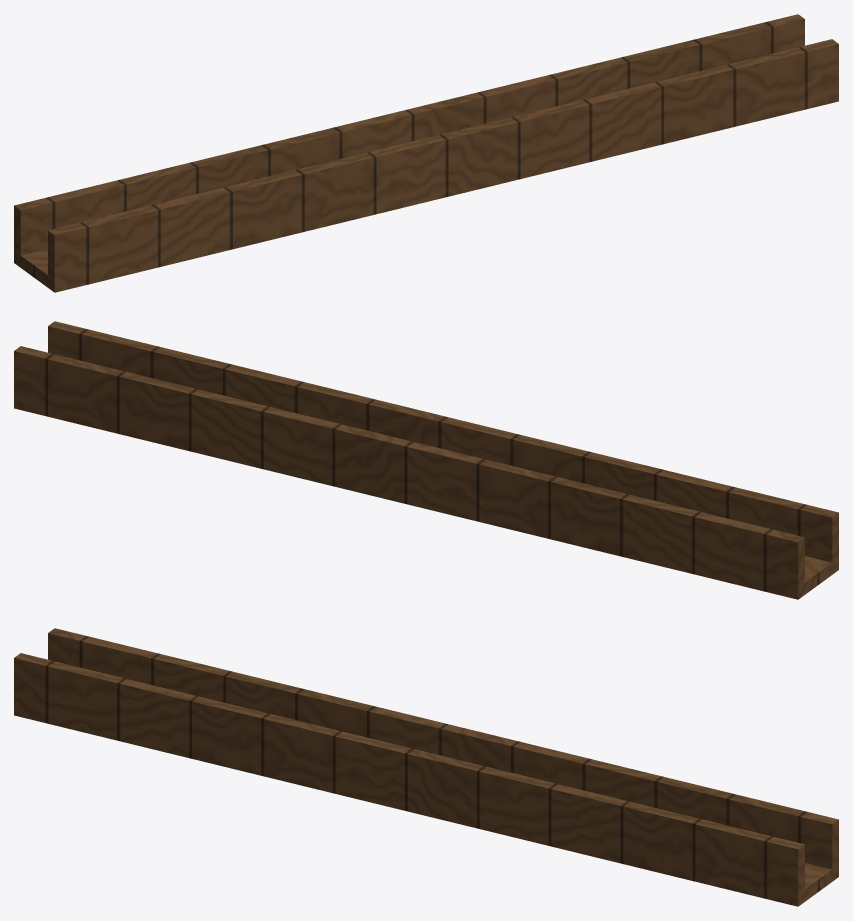
The model's file is gutter_straight_2m.glb.
3 views of the same model, one above another, from view 1: azimuth 30°, elevation 25°; view 2: azimuth 150°, elevation 25°; view 3: azimuth 330°, elevation 25° (orthographic).
Visible parts, largest first — view 1: gutter_straight_2m; view 2: gutter_straight_2m; view 3: gutter_straight_2m.
Part boxes in pixels (left/top/right/bottom): gutter_straight_2m: left=14, top=14, right=838, bottom=292; gutter_straight_2m: left=14, top=321, right=838, bottom=599; gutter_straight_2m: left=14, top=628, right=838, bottom=906.
Size of the model in its own units: 2 by 0.14 by 0.18.
1 material, 1 textured.
